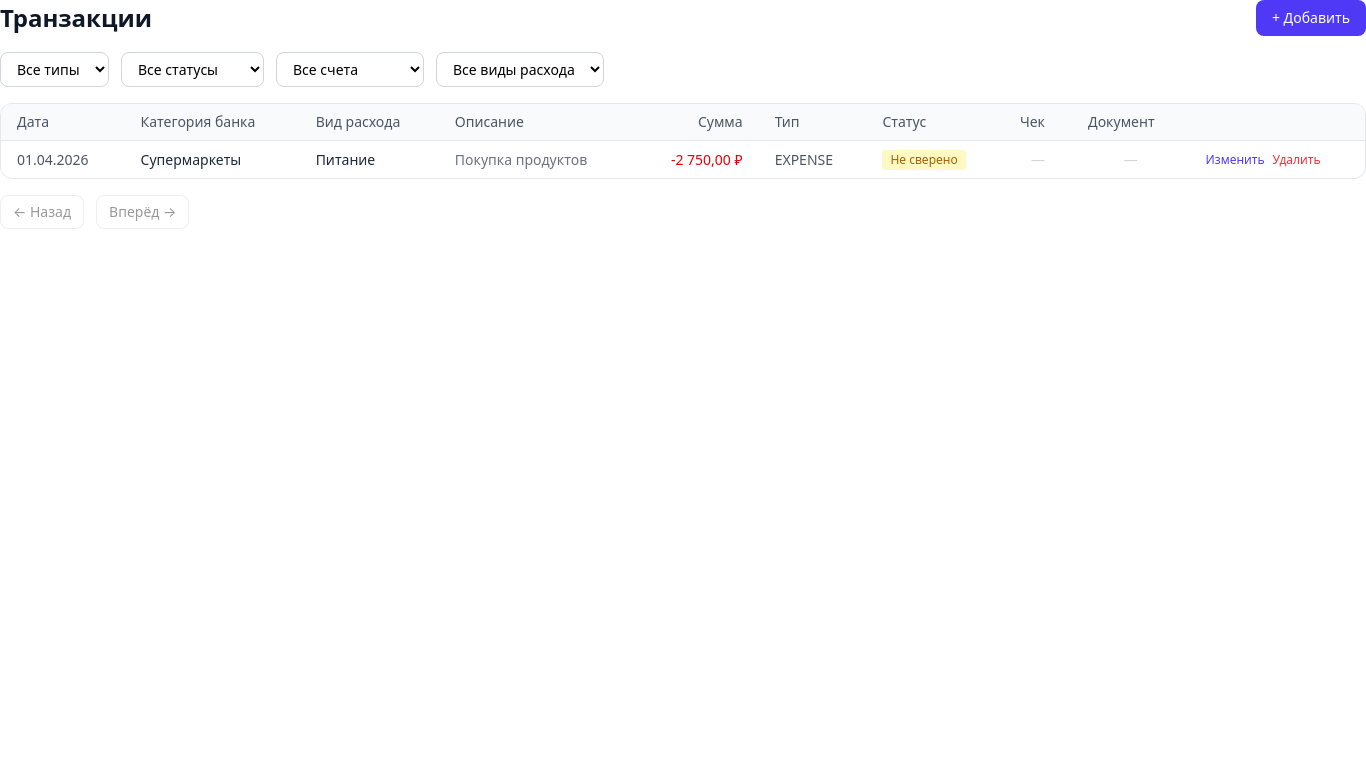
Test: Transactions page › opens edit modal with pre-filled description, amount and bank_category when Изменить is clicked
The image size is (1366, 768).
Click the button "Изменить". click: (1235, 160)
box: [1206,152,1265,168]
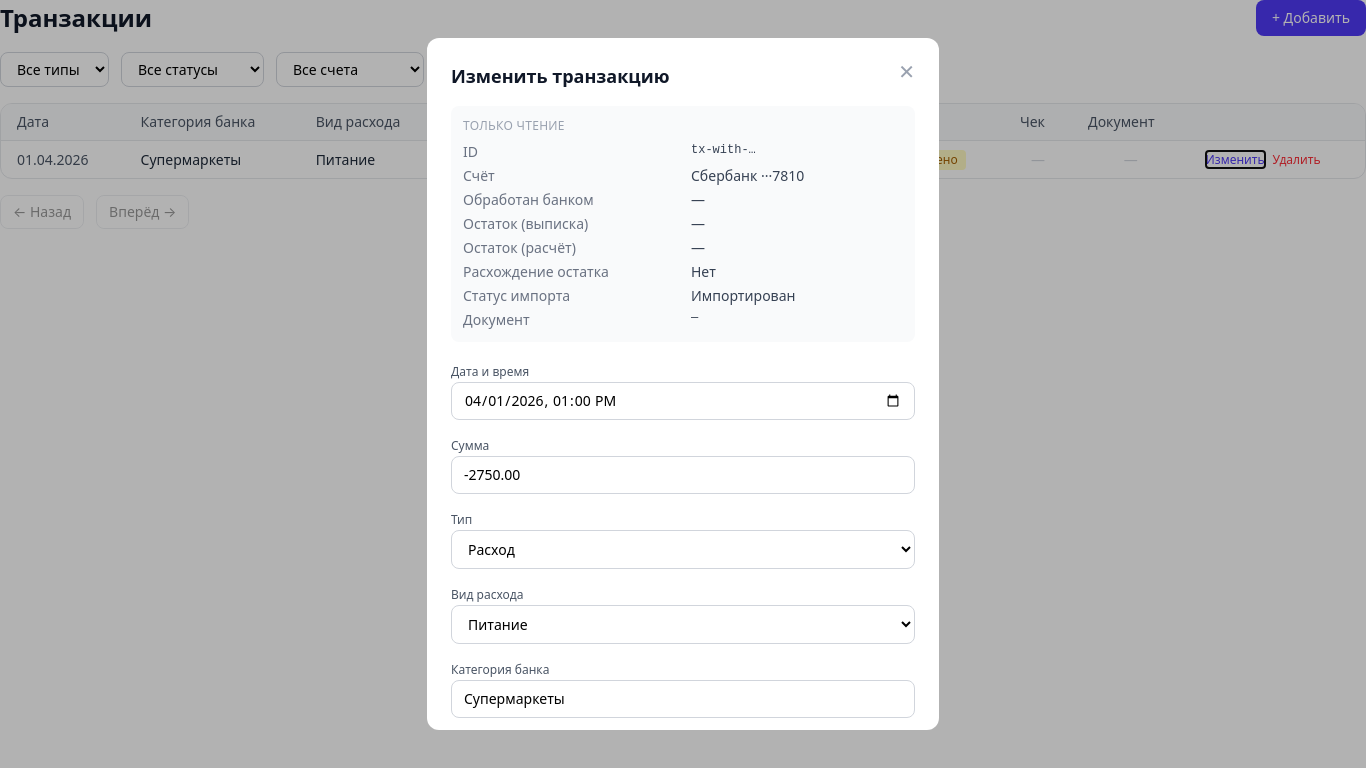
expect the heading "Изменить транзакцию" is shown: met, box [451,62,670,90]
expect the number field showing "-2750.00" is shown: met, box [451,456,915,494]
expect the 2nd field showing "Супермаркеты" is shown: met, box [451,680,915,718]
